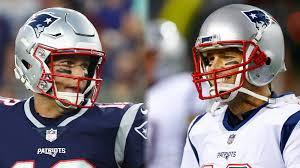helmet: (2, 2, 300, 168)
